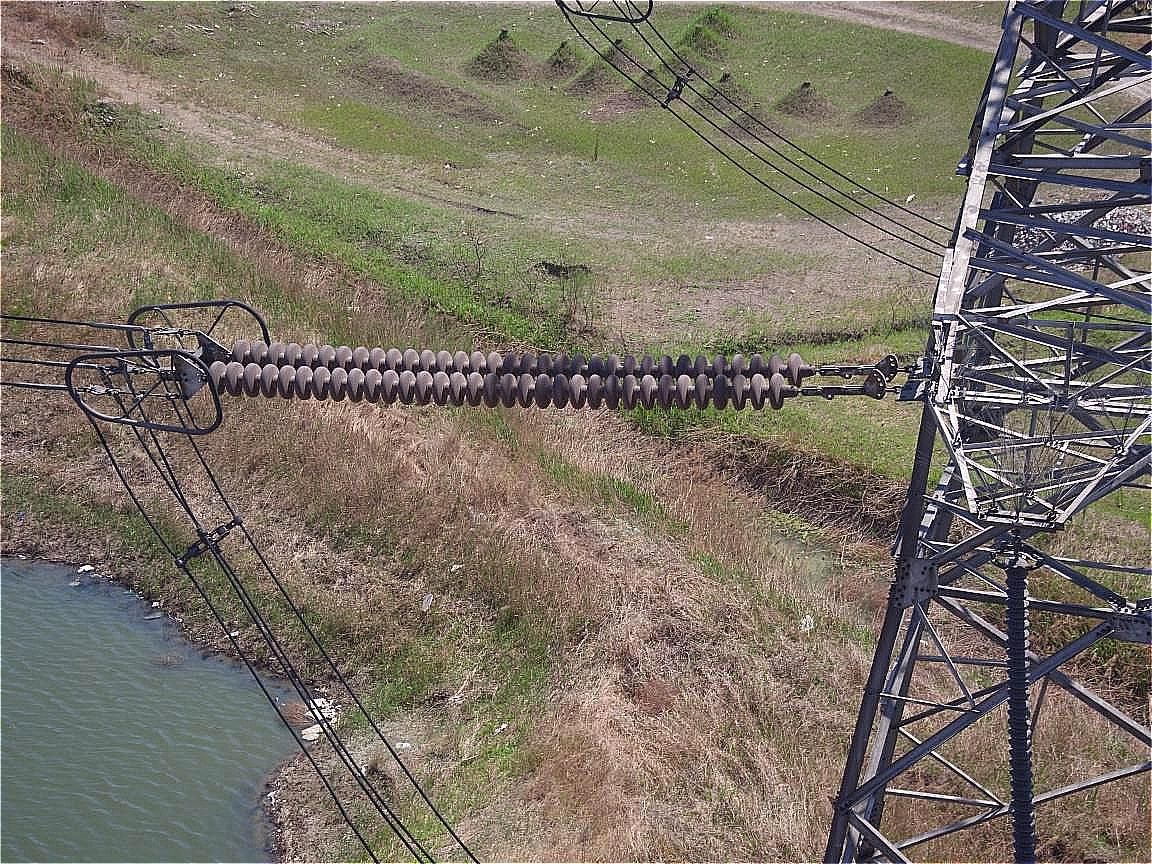insultor1: (190, 322, 816, 428)
